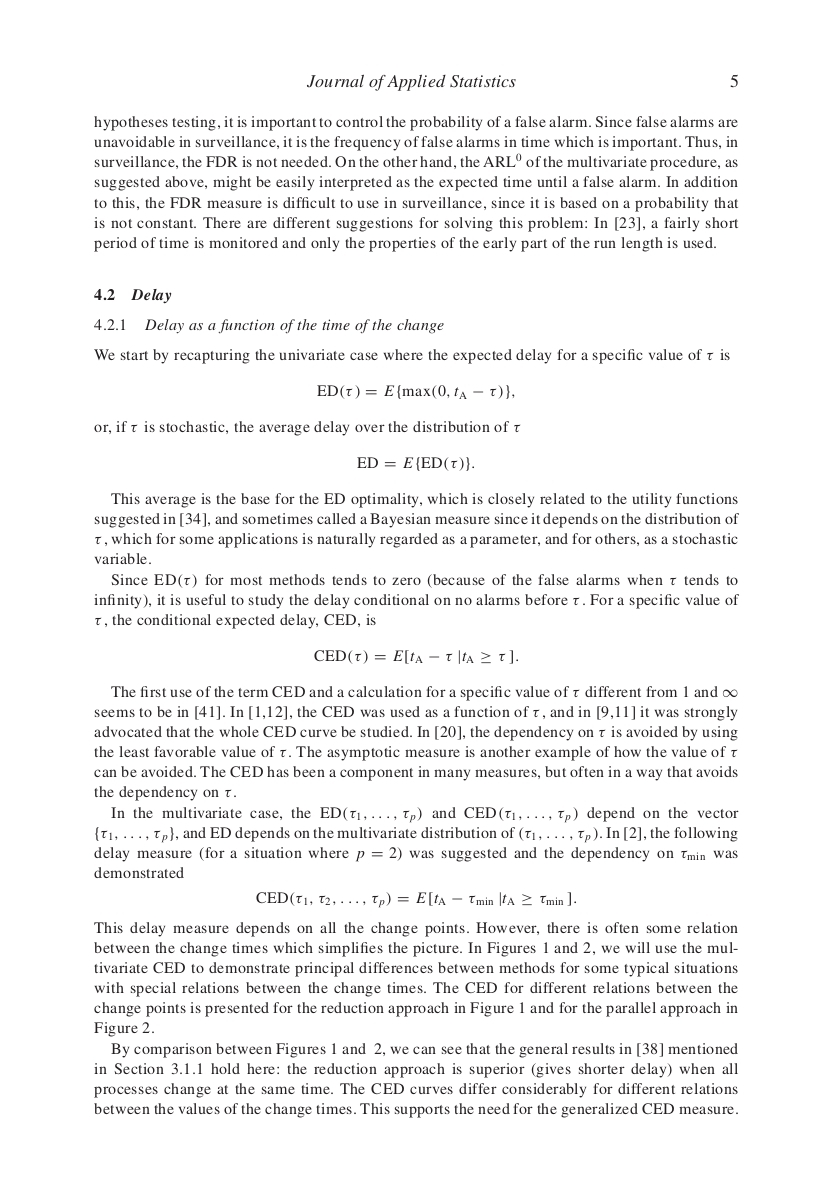formula: (256, 891, 575, 908), (314, 648, 517, 664), (317, 384, 514, 399), (357, 455, 473, 471)
